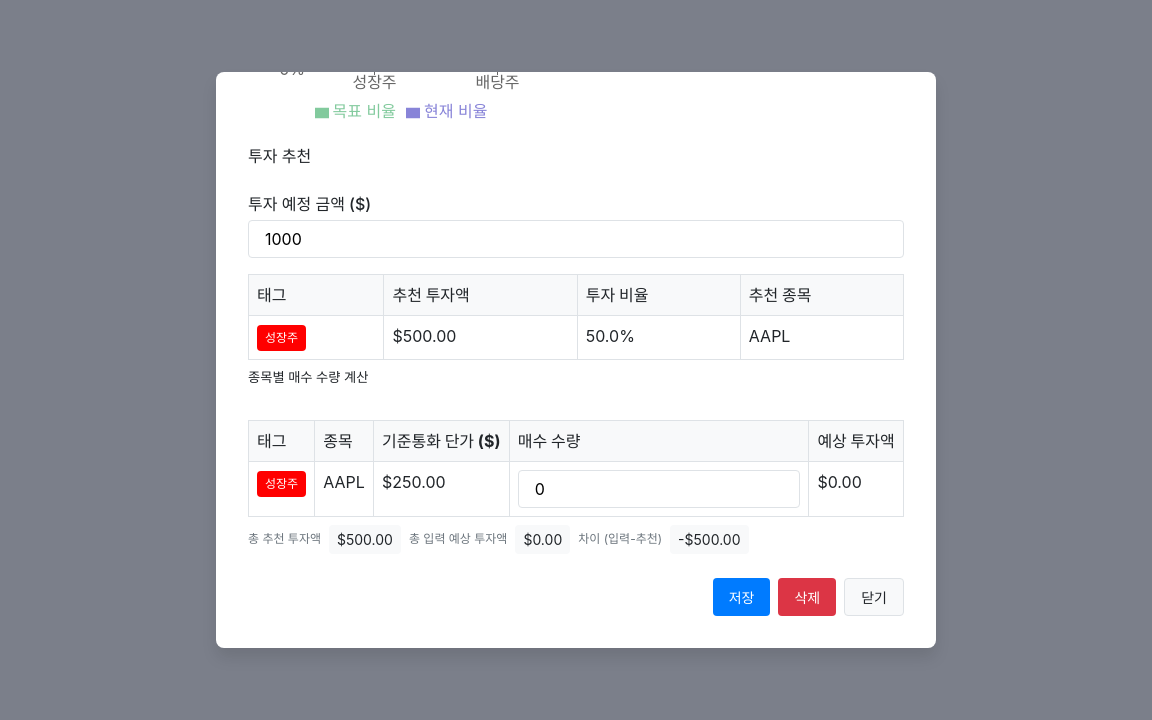
RebalancingGroupManagementModal › 추천 종목 수량을 입력하면 예상 투자액이 계산된다
This screenshot has width=1152, height=720.
(page scrolled)
Replace the text in the number field named "AAPL 매수 수량" with "2" at (659, 489), box top-left (518, 470), bottom-right (800, 508)
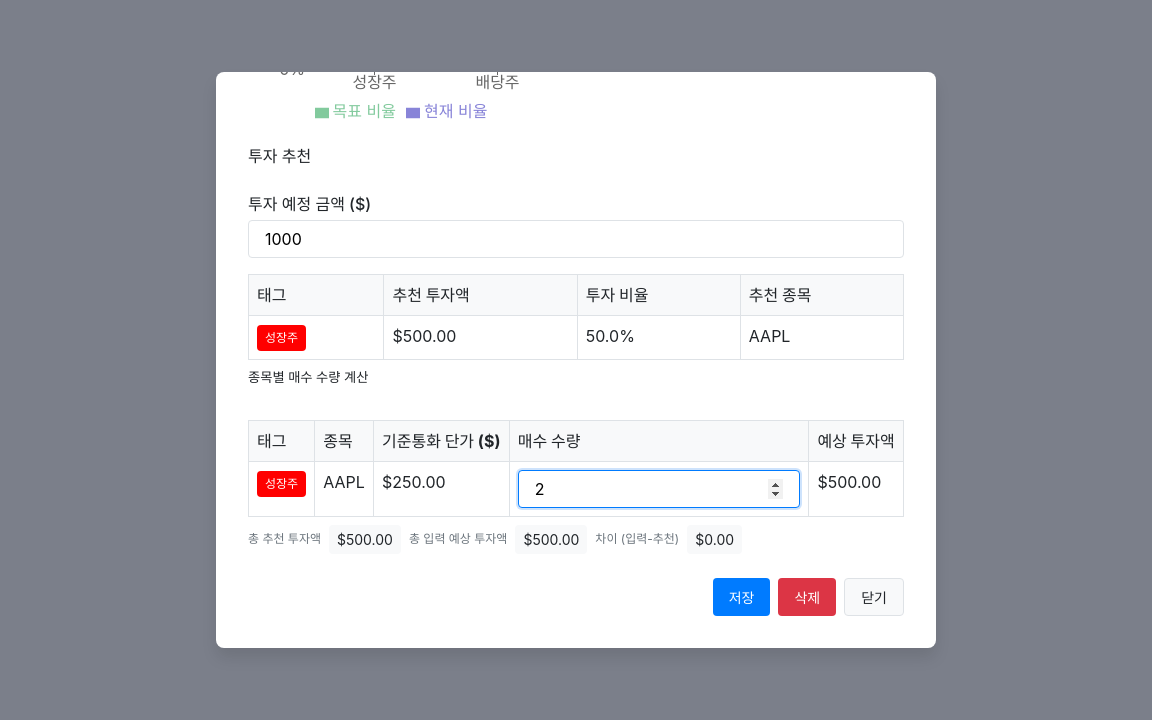
Result: the row named "AAPL 매수 수량" shows "500" at top-left (817, 472), bottom-right (881, 492)
